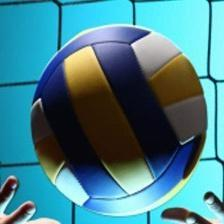Sports-Ball: (31, 25, 210, 215)
